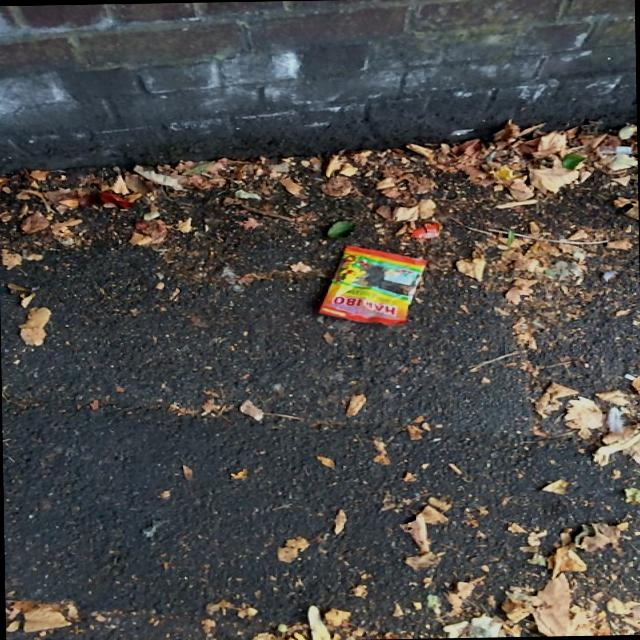Trash: (314, 242, 428, 328)
